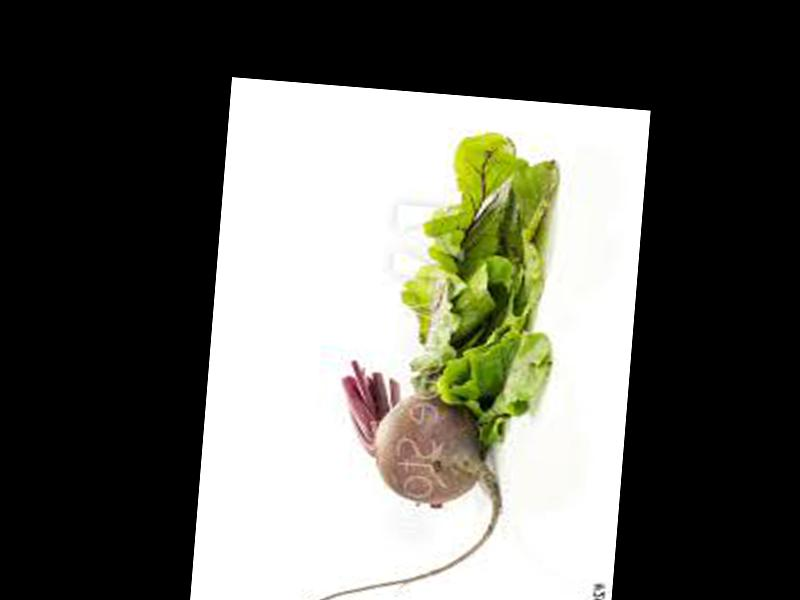Beet: (287, 353, 512, 600)
